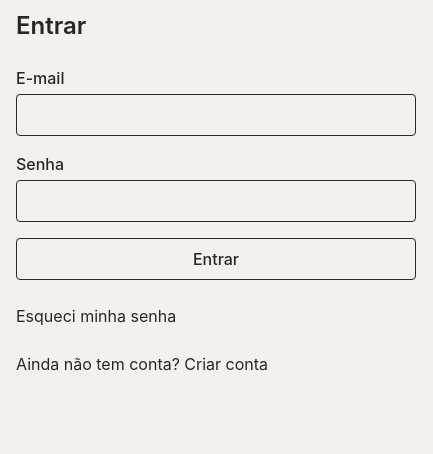
Test: fluxo senha, código, entrada no app (AUTH-01, AUTH-04) › bloqueio (429) mostra quanto tempo esperar, pelo Retry-After
Type "ana@exemplo.com.br" into the field labelled "E-mail" at (216, 115), box [16,94,416,136]
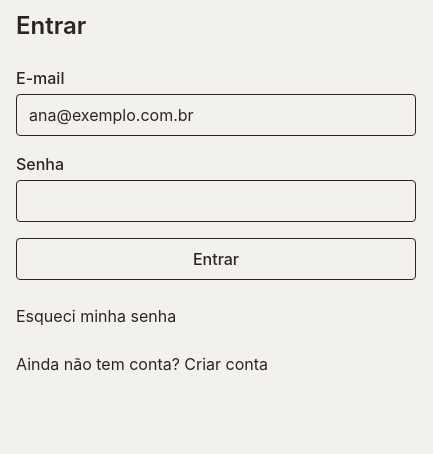
Type "qualquer-senha-1" into the password field labelled "Senha" at (216, 201), box [16,180,416,222]
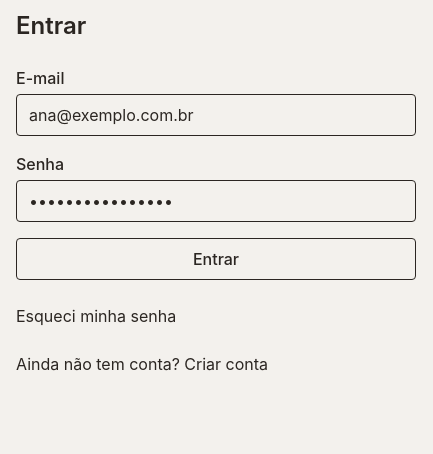
Click the button "Entrar" at (216, 259), box [16,238,416,280]
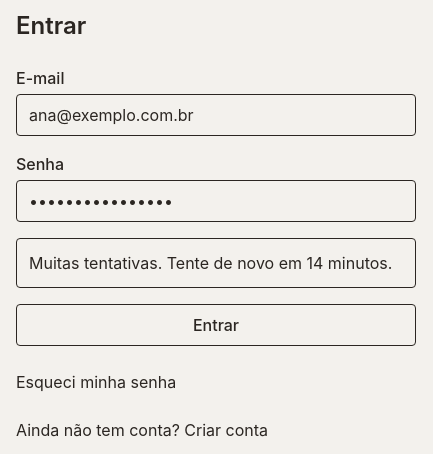
Now the message shows "14 minutos", box [29,253,392,273]
